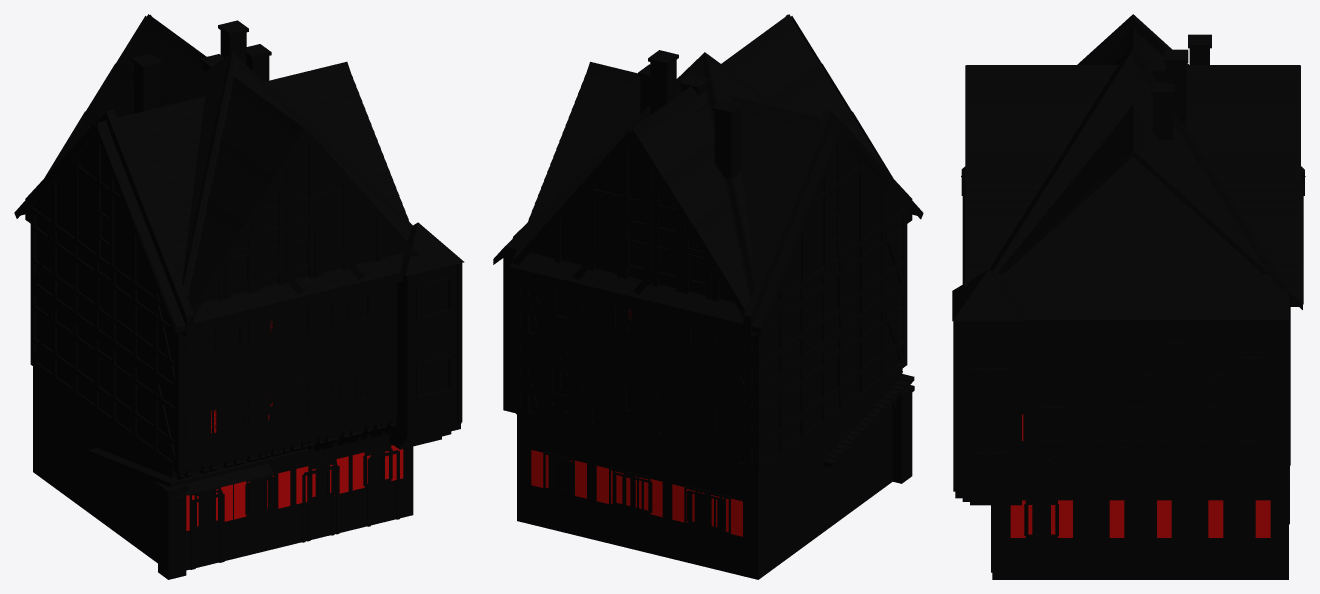
Rendered from zeile_mensch_s3.glb.
3 renders of one model, left to right at view 1: azimuth 30°, elevation 25°; view 2: azimuth 150°, elevation 25°; view 3: azimuth 270°, elevation 25°, orthographic. The views are drawn at different scales.
Visible parts, largest first — view 1: eck, kappe_offen, k_g8, k_g6, k_t8, kappe_brand, k_t6, eck_a, k_g4, eck_b, k_g8_b, hinterhaus (+10 smaller); view 2: k_g8, eck, kappe_offen, k_g6, k_t8, k_t6, k_g4, kappe_brand, k_g8_a, k_g6_a, k_g8_b, k_g8_c (+8 smaller); view 3: eck, k_g8, eck_a, eck_b, k_t8, k_t6, kappe_brand.
Boxes of the visible parts, x1,y1,x2,y2 form: eck: (33,52,464,569); kappe_offen: (14,120,185,561); k_g8: (102,14,418,569); k_g6: (48,62,364,567); k_t8: (118,44,413,568); kappe_brand: (25,110,194,460); k_t6: (117,54,366,569); eck_a: (36,82,413,538); k_g4: (47,109,304,569); eck_b: (185,160,396,515); k_g8_b: (116,16,418,511); hinterhaus: (88,447,308,569); k_g8: (512,14,838,573); eck: (493,52,911,579); kappe_offen: (752,121,923,577); k_g6: (572,62,889,577); k_t8: (510,61,820,539); k_t6: (570,74,820,579); k_g4: (633,109,893,577); kappe_brand: (743,110,912,431); k_g8_a: (519,16,828,530); k_g6_a: (583,64,847,534); k_g8_b: (513,131,744,514); k_g8_c: (528,130,744,530); eck: (952,34,1288,579); k_g8: (965,49,1300,473); eck_a: (958,148,1288,539); eck_b: (960,146,1286,536); k_t8: (962,29,1303,524); k_t6: (962,27,1303,468); kappe_brand: (961,14,1304,195).
Bounding box in the file's own units: 9.44 × 14.19 × 9.53.
